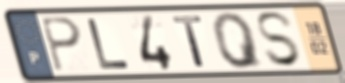4: (138, 12, 174, 72)
L: (84, 17, 133, 71)
P: (38, 16, 85, 74)
Q: (209, 10, 266, 70)
S: (254, 10, 305, 70)
T: (170, 14, 208, 69)
